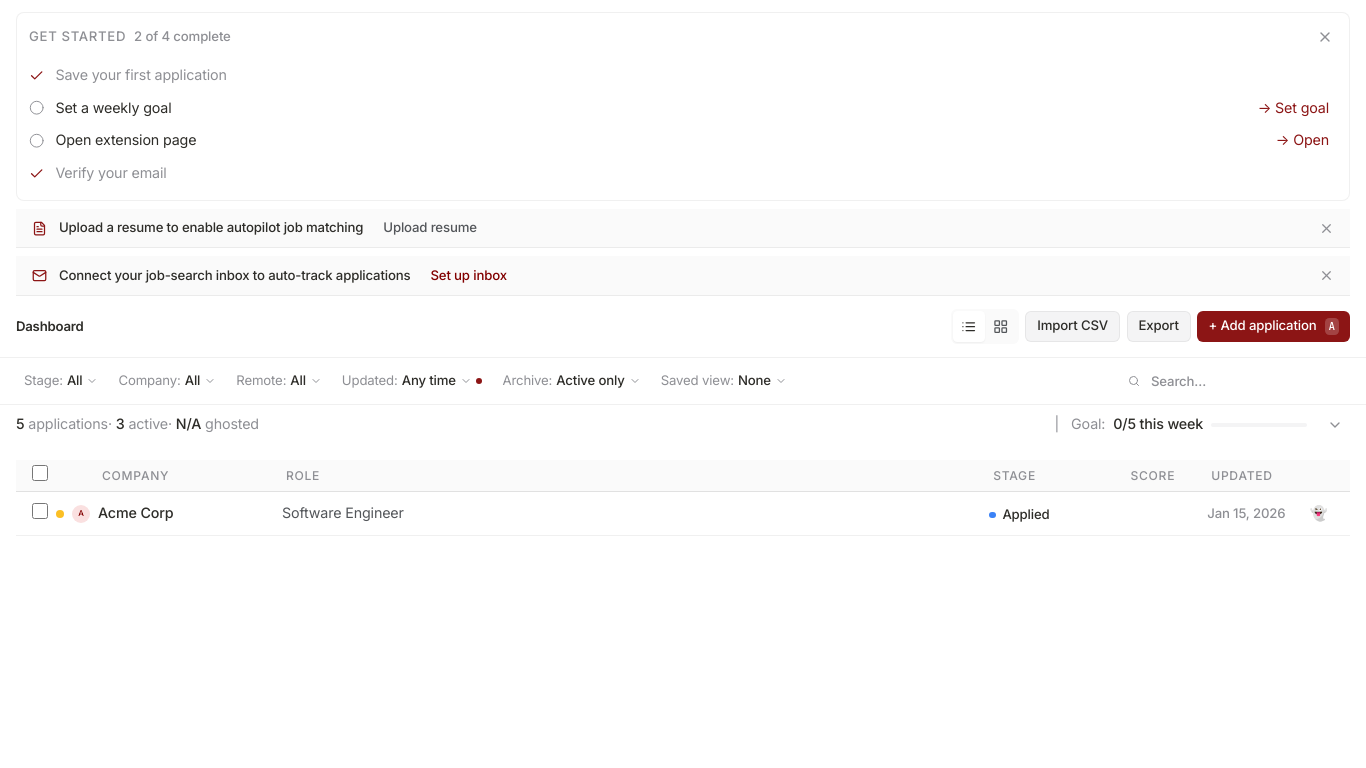
Scenario: Dashboard › should render StatsBar metrics after stats load
Expected: the element with test id "stats-collapsed-summary" shows "applications", [28,416,108,432]
Step 1. Click the button named "expand statistics" → (1335,425), box [1319,410,1350,440]
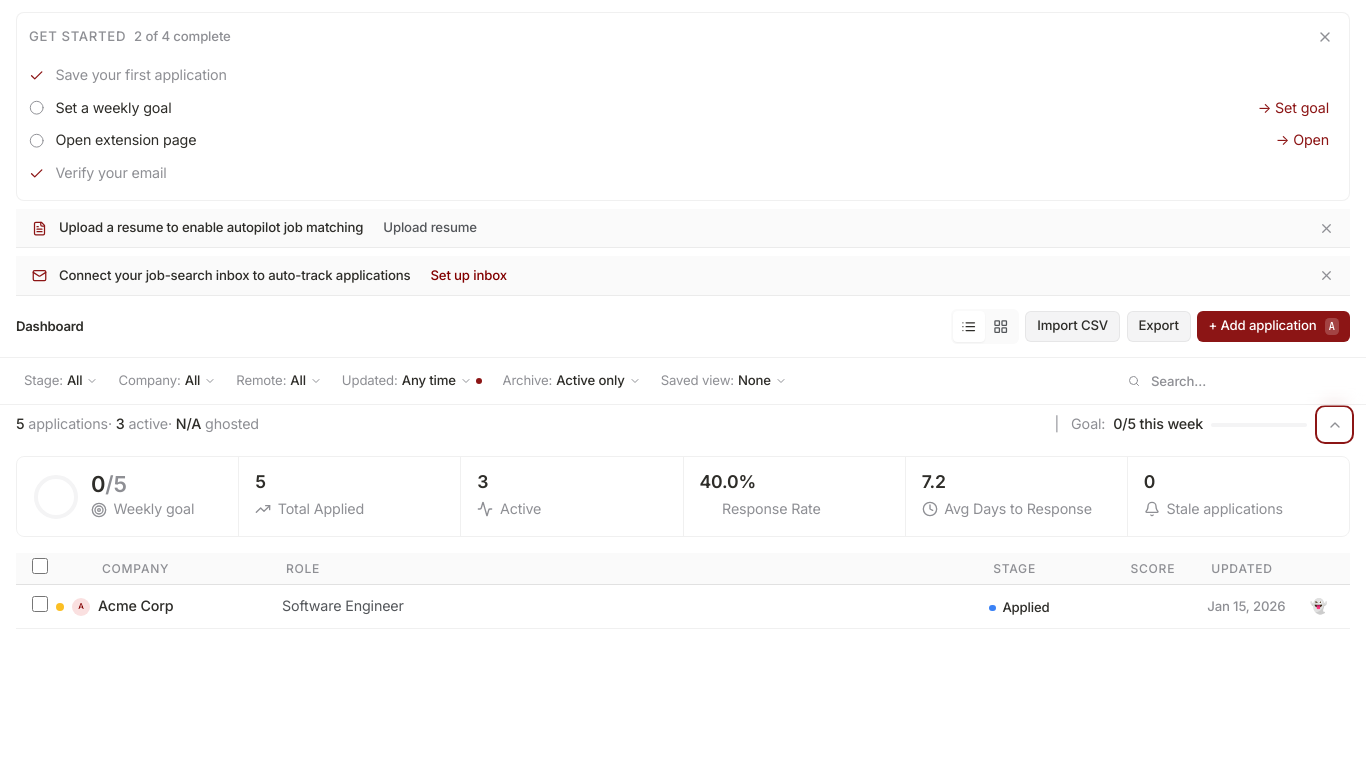
Result: the element labelled "5 Total Applied" is shown at [255,471,364,517]
